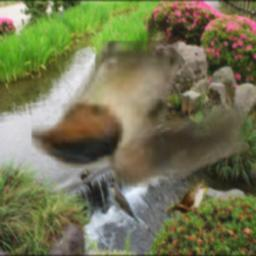Cuckoo: (108, 184, 142, 224), (165, 184, 208, 214)
Swallow: (32, 41, 248, 188)
